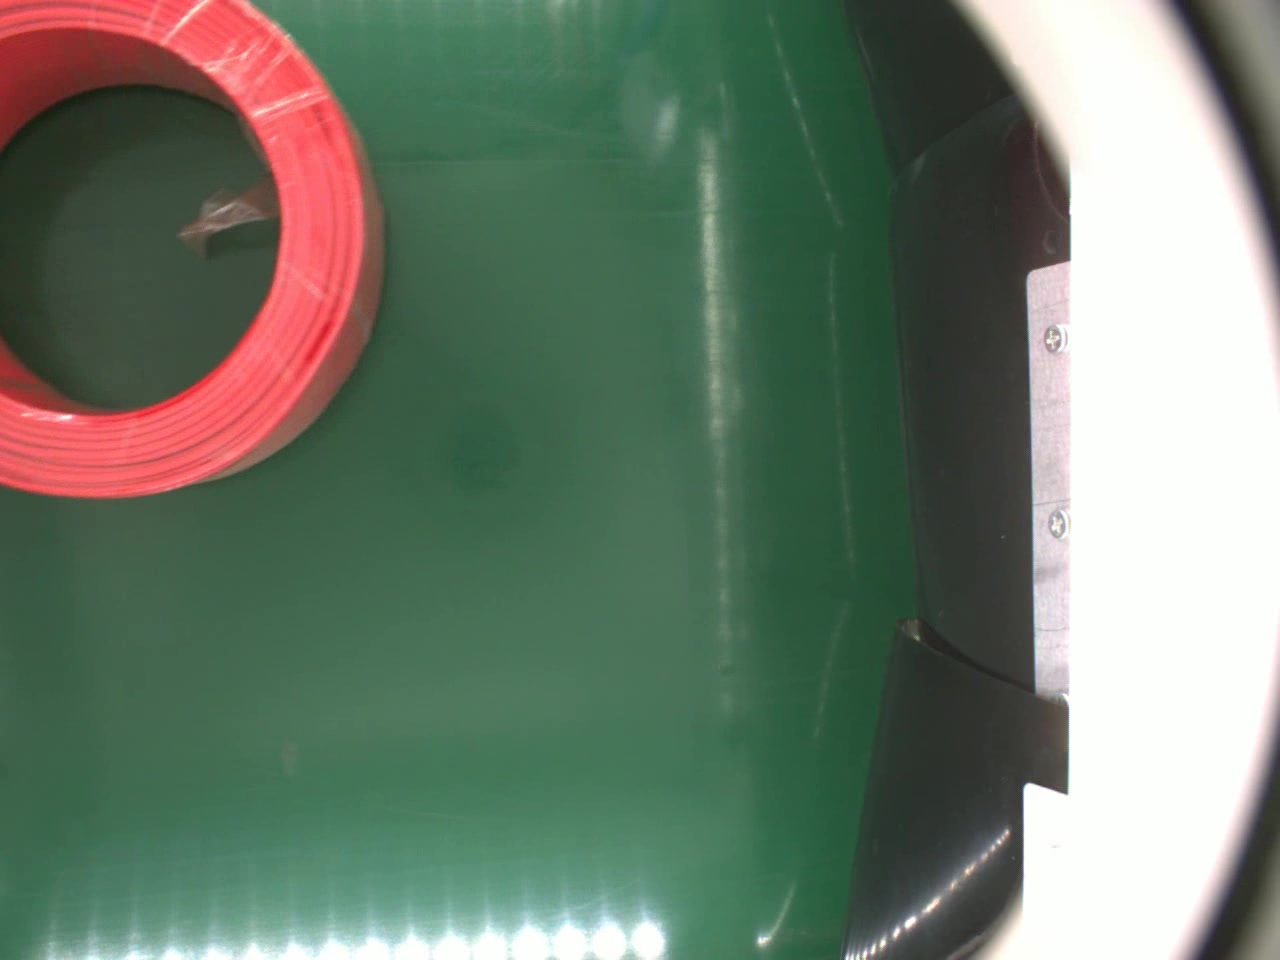red: (0, 0, 384, 496)
